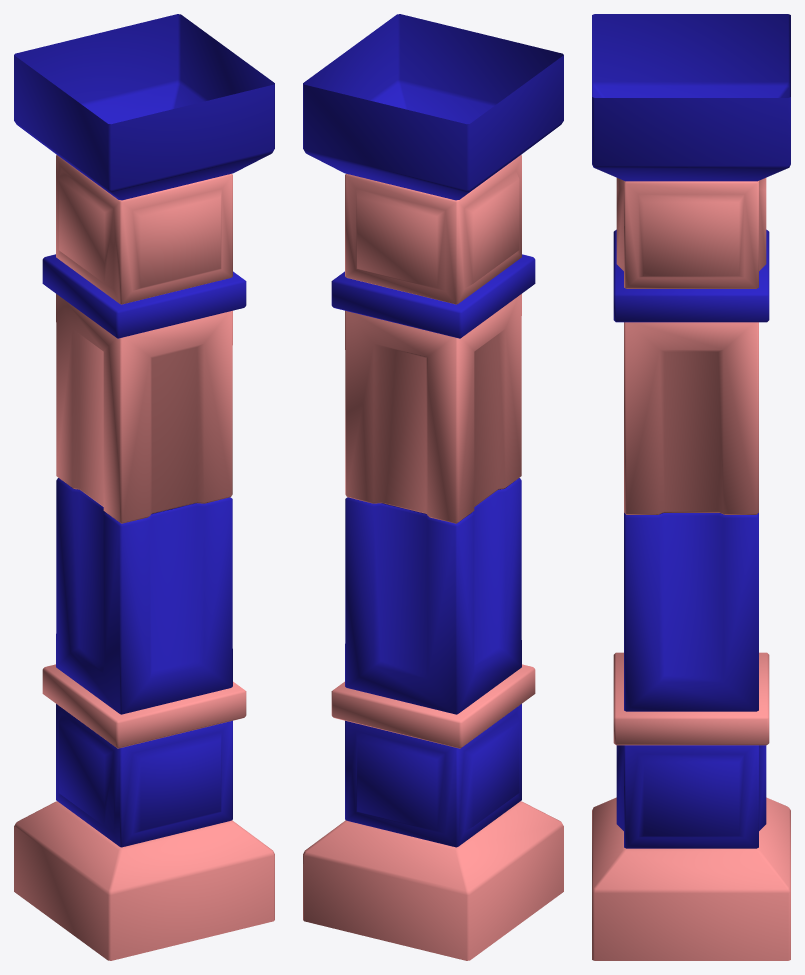
The model's file is StonePillar.FBX.
3 renders of one model, left to right at view 1: azimuth 30°, elevation 25°; view 2: azimuth 150°, elevation 25°; view 3: azimuth 270°, elevation 25°, orthographic. The views are drawn at different scales.
Visible parts, largest first — view 1: Object002, Object003; view 2: Object002, Object003; view 3: Object002, Object003.
Boxes of the visible parts, box(x1,y1,x2,y2) form: Object002: box(14, 14, 274, 847); Object003: box(14, 155, 274, 960); Object002: box(303, 14, 563, 847); Object003: box(303, 155, 563, 960); Object002: box(592, 14, 790, 848); Object003: box(592, 178, 790, 960).
Bounding box in the file's own units: 80.01 × 383 × 80.01.
